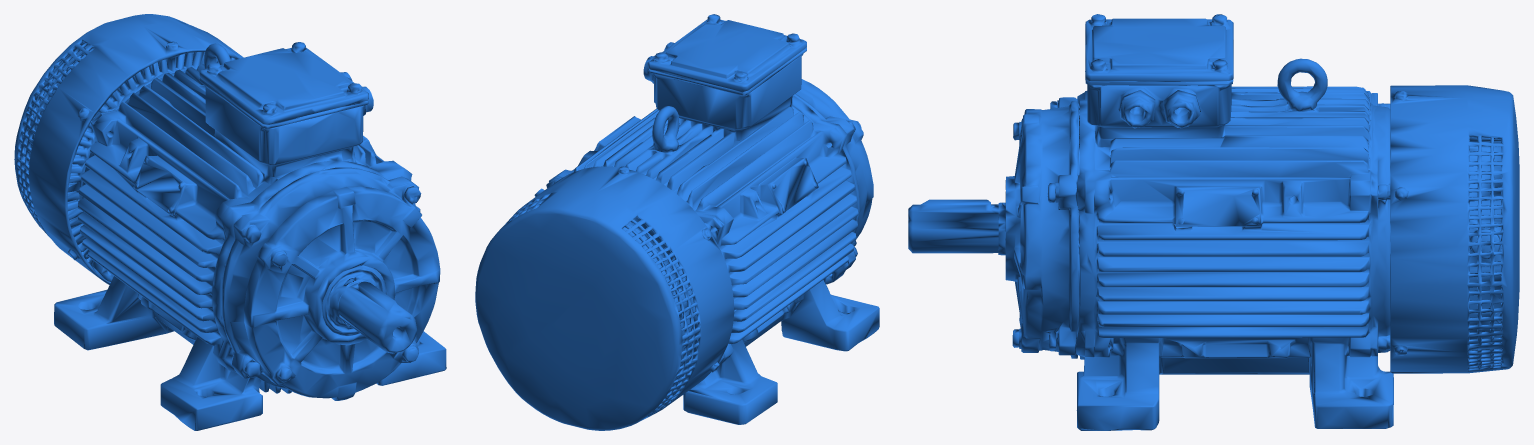
Rendered from motor_blue_colored.glb.
The picture shows the model from 3 angles, left to right: view 1: azimuth 30°, elevation 25°; view 2: azimuth 150°, elevation 25°; view 3: azimuth 270°, elevation 25°; orthographic projection. The views are drawn at different scales.
Visible parts, largest first — view 1: tripo_node_e3cb441b-0a29-41a1-9903-fbf2738e1fd1; view 2: tripo_node_e3cb441b-0a29-41a1-9903-fbf2738e1fd1; view 3: tripo_node_e3cb441b-0a29-41a1-9903-fbf2738e1fd1.
Boxes of the visible parts, <box> form: tripo_node_e3cb441b-0a29-41a1-9903-fbf2738e1fd1: <box>14,14,446,430</box>; tripo_node_e3cb441b-0a29-41a1-9903-fbf2738e1fd1: <box>475,14,879,430</box>; tripo_node_e3cb441b-0a29-41a1-9903-fbf2738e1fd1: <box>908,14,1519,430</box>.
Size of the model in its own units: 0.5103 by 0.5773 by 0.9811.
